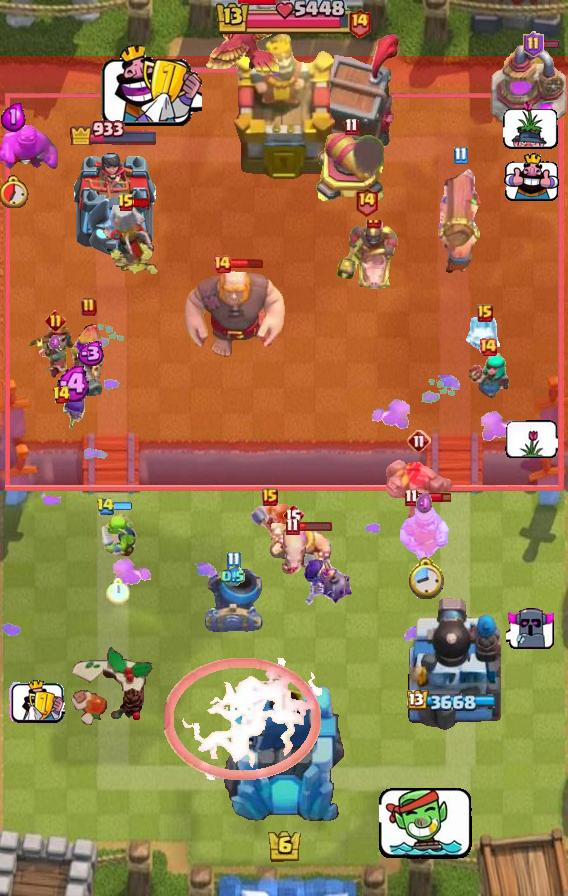balloon: (181, 267, 289, 359)
barbarian-evolution: (164, 658, 322, 780)
bat: (463, 316, 507, 356)
battle-healer: (436, 161, 484, 275)
bomb-tower: (68, 320, 110, 400)
bomber-evolution: (28, 324, 82, 380)
clock: (213, 0, 355, 38)
dart-goblin: (317, 32, 401, 170)
earthquake: (400, 497, 450, 561)
electro-spirit: (56, 366, 94, 402), (2, 100, 27, 131), (75, 341, 106, 366), (221, 565, 245, 587), (416, 492, 434, 516), (49, 334, 61, 349)
elixir: (406, 555, 444, 599), (0, 176, 28, 209), (106, 578, 130, 605)
emote: (417, 492, 452, 505), (297, 521, 333, 532), (230, 259, 264, 270), (238, 0, 291, 7), (132, 197, 152, 209), (113, 500, 132, 511), (540, 39, 560, 49)
freeze: (332, 220, 400, 294)
giant: (276, 521, 310, 577)
goblin: (60, 391, 90, 431)
goblin-ball: (302, 557, 356, 607)
goblin-giant: (269, 523, 335, 573)
golden-knight: (205, 4, 287, 76)
hog-rider: (248, 501, 292, 551)
king-tower: (221, 682, 347, 826), (231, 35, 337, 182)
musketeer: (203, 568, 263, 632)
pekka: (490, 45, 568, 127)
poison: (95, 203, 177, 277)
queen-tower: (71, 144, 157, 255)
royal-recruit: (315, 133, 387, 207)
selected: (69, 117, 159, 145), (407, 690, 499, 714)
skeleton: (100, 44, 202, 126), (379, 784, 475, 864), (503, 100, 559, 150), (505, 154, 560, 203), (7, 680, 64, 724), (506, 606, 556, 650), (506, 420, 559, 458)
text: (348, 7, 373, 38), (353, 186, 378, 217), (407, 429, 431, 453), (524, 31, 545, 57), (282, 503, 304, 527), (46, 309, 67, 331), (212, 254, 232, 274), (478, 337, 498, 357), (52, 385, 72, 405), (117, 193, 135, 213), (97, 497, 116, 515), (81, 297, 97, 317), (477, 304, 493, 322), (262, 488, 278, 506), (285, 517, 300, 536), (344, 117, 359, 135), (405, 489, 419, 508), (453, 147, 467, 165), (227, 551, 241, 569)
tornado: (0, 124, 58, 170)
tower-bar: (405, 595, 501, 731)
valkyrie-evolution: (383, 458, 455, 530)
witch: (465, 353, 511, 405)
zap: (98, 509, 138, 559)
